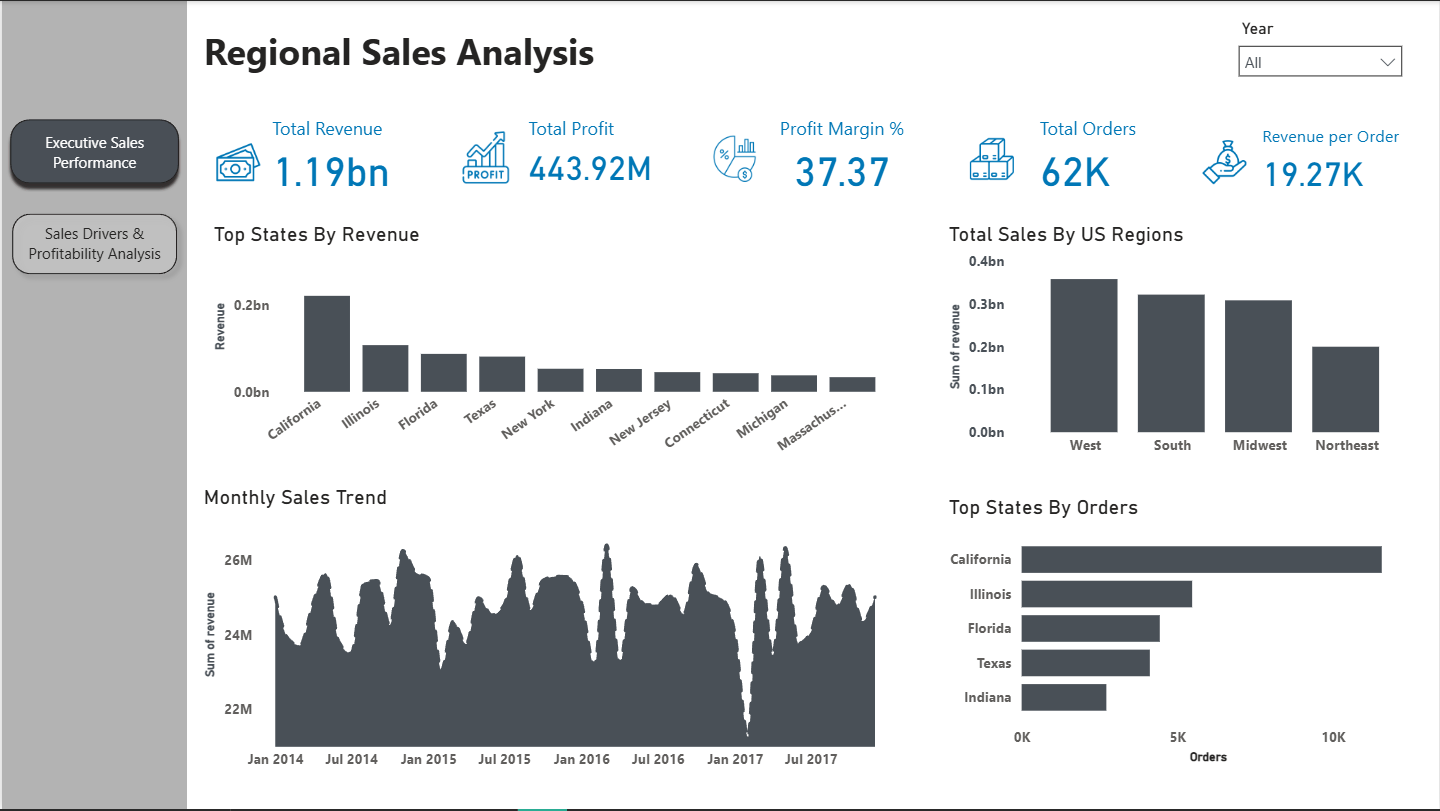

The page's visual inventory and layout, read from the dashboard file:
{"tool":"powerbi","page":{"name":"Executive Sales Performance ","canvas":[1280,720],"ordinal":0},"visuals":[{"type":"shape","box":[0,0,164.8,720.2],"z":0},{"type":"textbox","box":[174.6,17.3,451.6,67.8],"z":1000},{"type":"cardVisual","fields":{"Data":["Sales.Total Revenue"]},"box":[223.3,84.7,157.1,90.8],"z":2000},{"type":"cardVisual","fields":{"Data":["Sales.Total Profit"]},"box":[451.5,84.7,154.6,90.8],"z":3000},{"type":"cardVisual","fields":{"Data":["Sales.Profit Margin %"]},"box":[673.6,84.7,149.7,90.8],"z":4000},{"type":"cardVisual","fields":{"Data":["Sales.Total Orders"]},"box":[906.8,84.7,130.1,90.8],"z":5000},{"type":"cardVisual","fields":{"Data":["Sales.Revenue per Order"]},"box":[1105.5,92,159.5,90.8],"z":6000},{"type":"lineChart","title":"Monthly Sales Trend","fields":{"Y":["Sum(Sales.revenue)"],"Category":["Sales.order_month"]},"box":[174.2,430.7,631.9,262.6],"z":12000},{"type":"clusteredColumnChart","title":"Total Sales By US Regions","fields":{"Category":["Sales.region"],"Y":["Sum(Sales.revenue)"]},"box":[838,197.5,427,217.2],"z":13000},{"type":"columnChart","title":"Top States By Revenue","fields":{"Category":["Sales.state"],"Y":["Sum(Sales.revenue)"]},"box":[184.1,197.5,620.9,217.2],"z":14000},{"type":"barChart","title":"Top States By Orders","fields":{"Category":["Sales.state"],"Y":["Sales.Total Orders"]},"box":[837.8,440,418.9,244.4],"z":15000},{"type":"pageNavigator","box":[0,98.2,165.6,154.6],"z":16000},{"type":"image","box":[184.1,119,54,49.1],"z":16001},{"type":"image","box":[400,111.7,62.6,56.4],"z":16002},{"type":"image","box":[625.8,111.7,54,58.9],"z":16003},{"type":"image","box":[857.7,114.1,49.1,52.8],"z":16004},{"type":"image","box":[1063.8,119,49.1,49.1],"z":16005},{"type":"slicer","fields":{"Values":["Sales.order_month.Variation.Date Hierarchy.Year","Sales.order_month.Variation.Date Hierarchy.Month"]},"box":[1090.8,11,165.6,73.6],"z":16006}]}

Visuals, with their boxes in screenshot pixels (x1, y1, x2, y2), scaled from the page's 1280x720 canvas onto the 1440x811 screenshot:
shape: bbox(0, 0, 185, 810)
textbox: bbox(196, 19, 704, 96)
cardVisual - Sales.Total Revenue: bbox(251, 95, 428, 198)
cardVisual - Sales.Total Profit: bbox(508, 95, 682, 198)
cardVisual - Sales.Profit Margin %: bbox(758, 95, 926, 198)
cardVisual - Sales.Total Orders: bbox(1020, 95, 1167, 198)
cardVisual - Sales.Revenue per Order: bbox(1244, 104, 1423, 206)
"Monthly Sales Trend" lineChart: bbox(196, 485, 907, 781)
"Total Sales By US Regions" clusteredColumnChart: bbox(943, 222, 1423, 467)
"Top States By Revenue" columnChart: bbox(207, 222, 906, 467)
"Top States By Orders" barChart: bbox(943, 496, 1414, 771)
pageNavigator: bbox(0, 111, 186, 285)
image: bbox(207, 134, 268, 189)
image: bbox(450, 126, 520, 189)
image: bbox(704, 126, 765, 192)
image: bbox(965, 129, 1020, 188)
image: bbox(1197, 134, 1252, 189)
slicer - Sales.order_month.Variation.Date Hierarchy.Year x Sales.order_month.Variation.Date Hierarchy.Month: bbox(1227, 12, 1413, 95)
